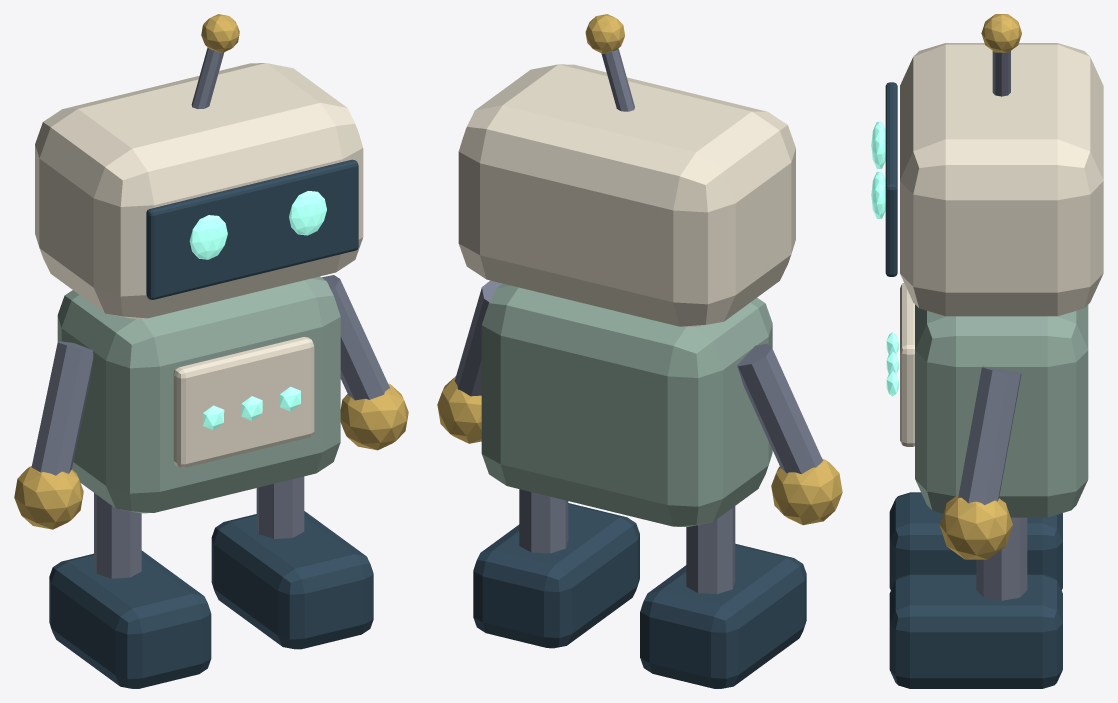
File: toy_robot.glb
The picture shows the model from 3 angles, left to right: view 1: azimuth 30°, elevation 25°; view 2: azimuth 150°, elevation 25°; view 3: azimuth 270°, elevation 25°; orthographic projection. The views are drawn at different scales.
Parts seen in each view (by area): view 1: toy_robot_Mesh; view 2: toy_robot_Mesh; view 3: toy_robot_Mesh.
Part boxes in pixels (x1,y1,x2,y2): toy_robot_Mesh: (14,14,408,688); toy_robot_Mesh: (437,14,842,688); toy_robot_Mesh: (871,14,1103,688).
Size of the model in its own units: 0.4485 by 0.68 by 0.228.
